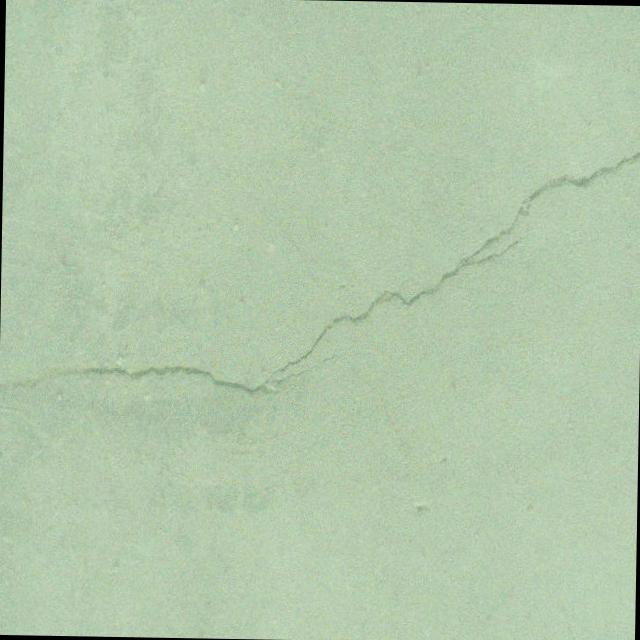crack: (6, 136, 640, 403)
